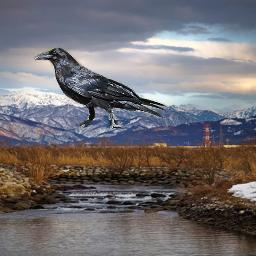Crow: (34, 47, 173, 132)
